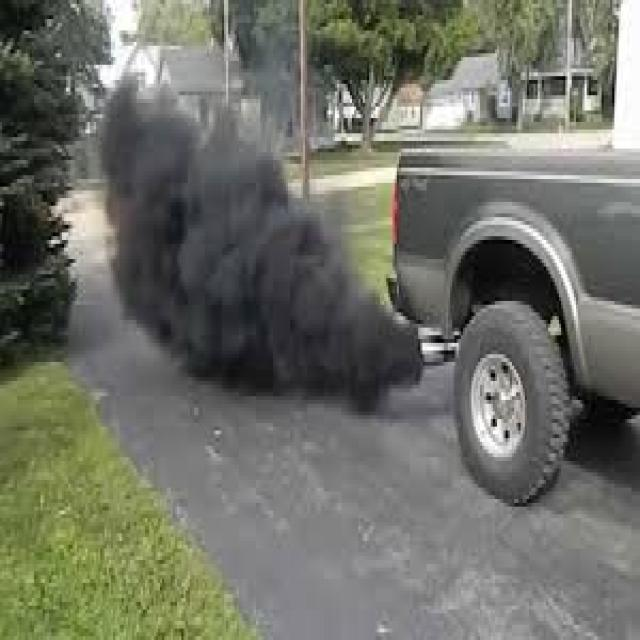Smoke: (100, 75, 432, 442)
